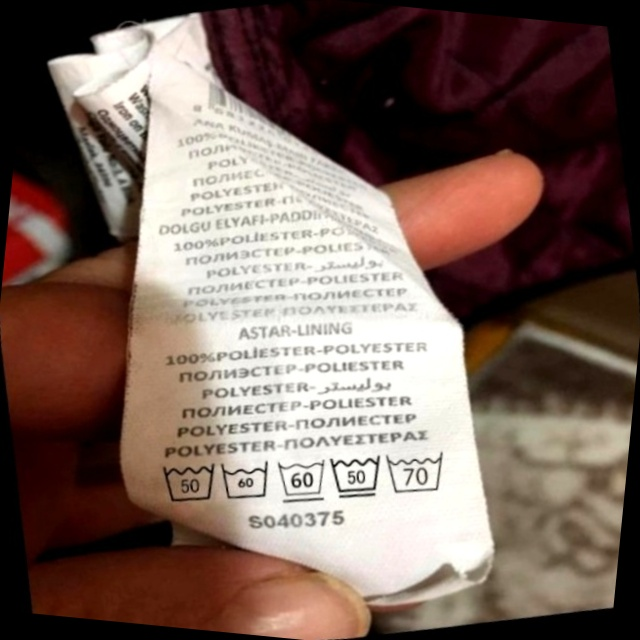50C: (150, 446, 228, 516), (321, 443, 393, 510)
60C: (270, 446, 338, 511), (213, 449, 282, 512)
70C: (380, 439, 459, 505)
